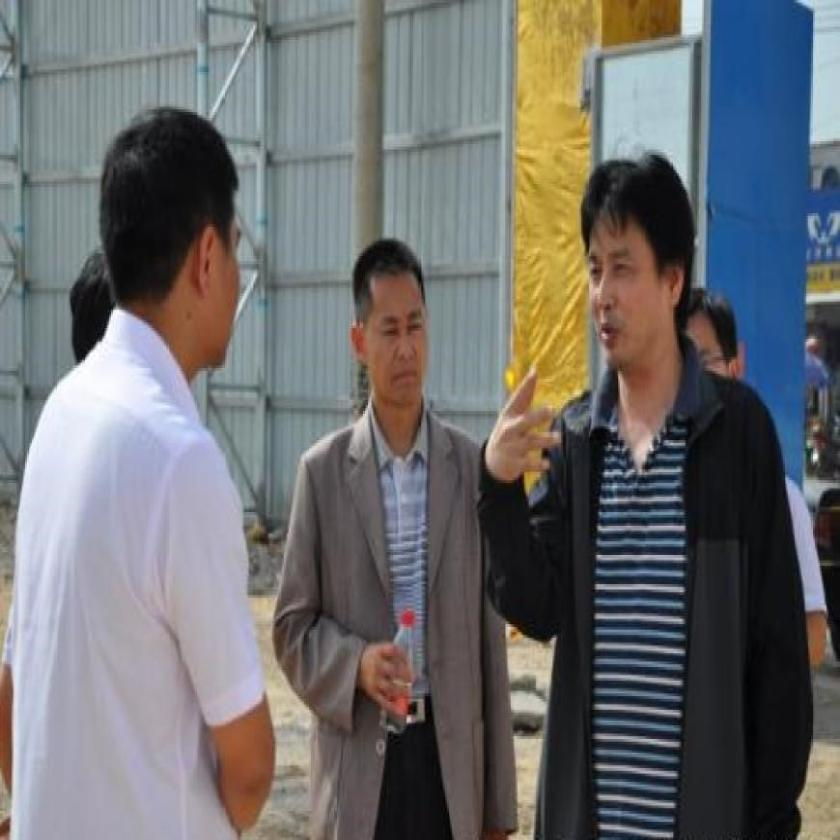Sin_casco: (95, 98, 247, 400), (581, 150, 699, 398), (346, 225, 436, 437)
